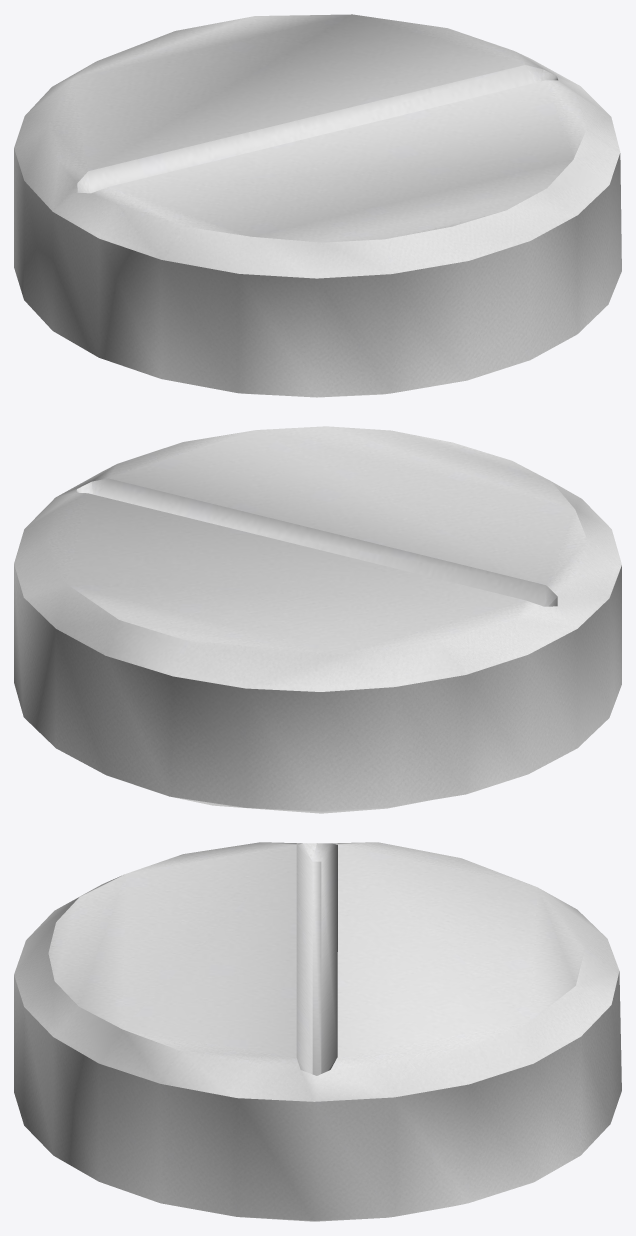
Rendered from Pill_01.fbx.
3 views of the same model, one above another, from view 1: azimuth 30°, elevation 25°; view 2: azimuth 150°, elevation 25°; view 3: azimuth 270°, elevation 25° (orthographic).
Parts seen in each view (by area): view 1: Pill; view 2: Pill; view 3: Pill.
Part boxes in pixels (left/top/right/bottom): Pill: left=14, top=14, right=621, bottom=397; Pill: left=14, top=426, right=621, bottom=813; Pill: left=14, top=842, right=621, bottom=1221.
Bounding box in the file's own units: 95.75 × 27.44 × 96.53.
